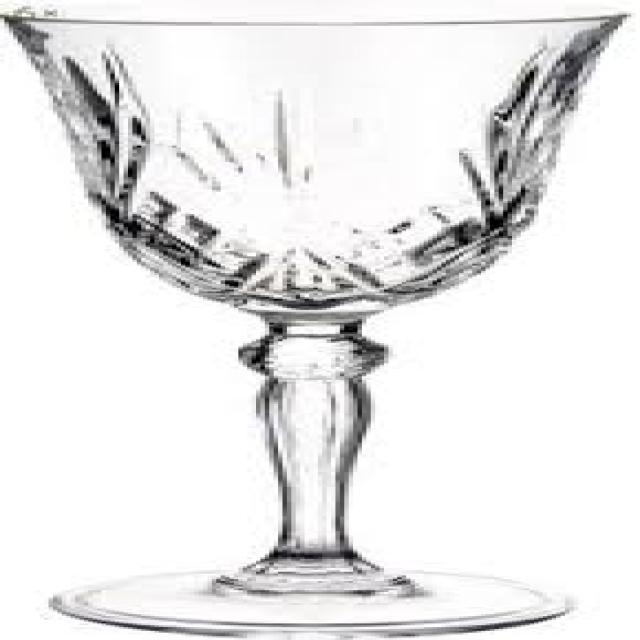Glass: (0, 2, 611, 639)
